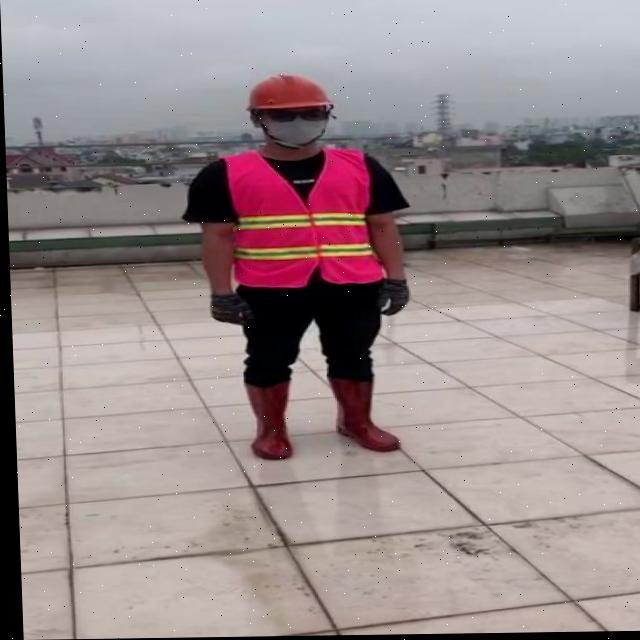Gloves: (207, 292, 252, 326), (373, 278, 407, 317)
Safety-Boot: (326, 375, 397, 453), (241, 378, 290, 460)
Safety-Vest: (219, 146, 382, 291)
